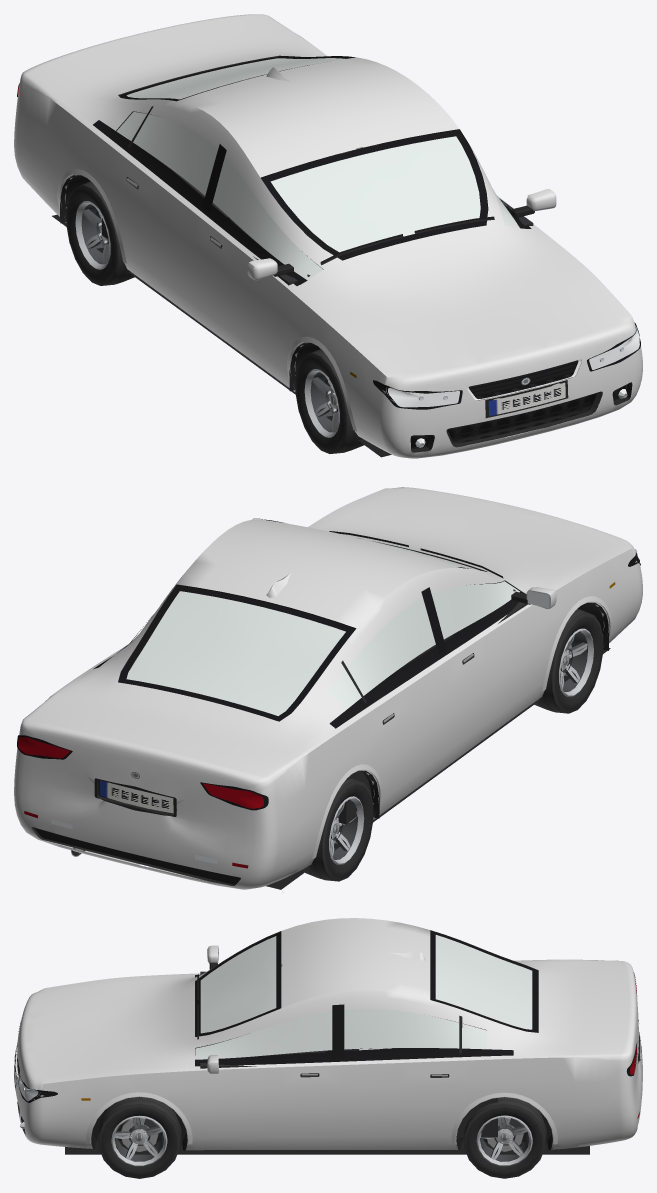
Rendered from TrafficSedanA_r3_LOD0_unity_test.fbx.
3 renders of one model, top to bottom at view 1: azimuth 30°, elevation 25°; view 2: azimuth 150°, elevation 25°; view 3: azimuth 270°, elevation 25°, orthographic. The views are drawn at different scales.
Parts seen in each view (by area): view 1: Body_LOD0, Glass_LOD0, Trim_LOD0, Wheel_FR_LOD0, Wheel_RR_LOD0, Lights_LOD0; view 2: Body_LOD0, Glass_LOD0, Trim_LOD0, Wheel_FR_LOD0, Wheel_RR_LOD0, Lights_LOD0, Interior_LOD0; view 3: Body_LOD0, Glass_LOD0, Trim_LOD0, Wheel_FL_LOD0, Wheel_RL_LOD0, Interior_LOD0.
Part boxes in pixels (x1=…): Body_LOD0: x1=14, y1=14, x2=642, y2=458; Glass_LOD0: x1=116, y1=58, x2=519, y2=280; Trim_LOD0: x1=17, y1=55, x2=640, y2=457; Wheel_FR_LOD0: x1=295, y1=349, x2=364, y2=453; Wheel_RR_LOD0: x1=66, y1=181, x2=134, y2=285; Lights_LOD0: x1=17, y1=86, x2=639, y2=407; Body_LOD0: x1=14, y1=487, x2=642, y2=889; Glass_LOD0: x1=126, y1=533, x2=519, y2=715; Trim_LOD0: x1=17, y1=519, x2=640, y2=889; Wheel_FR_LOD0: x1=534, y1=609, x2=603, y2=713; Wheel_RR_LOD0: x1=305, y1=778, x2=373, y2=881; Lights_LOD0: x1=18, y1=550, x2=636, y2=863; Interior_LOD0: x1=338, y1=538, x2=527, y2=824; Body_LOD0: x1=14, y1=918, x2=642, y2=1150; Glass_LOD0: x1=195, y1=935, x2=532, y2=1059; Trim_LOD0: x1=14, y1=930, x2=641, y2=1154; Wheel_FL_LOD0: x1=97, y1=1096, x2=181, y2=1178; Wheel_RL_LOD0: x1=462, y1=1097, x2=546, y2=1178; Interior_LOD0: x1=200, y1=964, x2=497, y2=1137.
Size of what is drawn, in the model's own units: 2.06 by 1.47 by 4.65.
